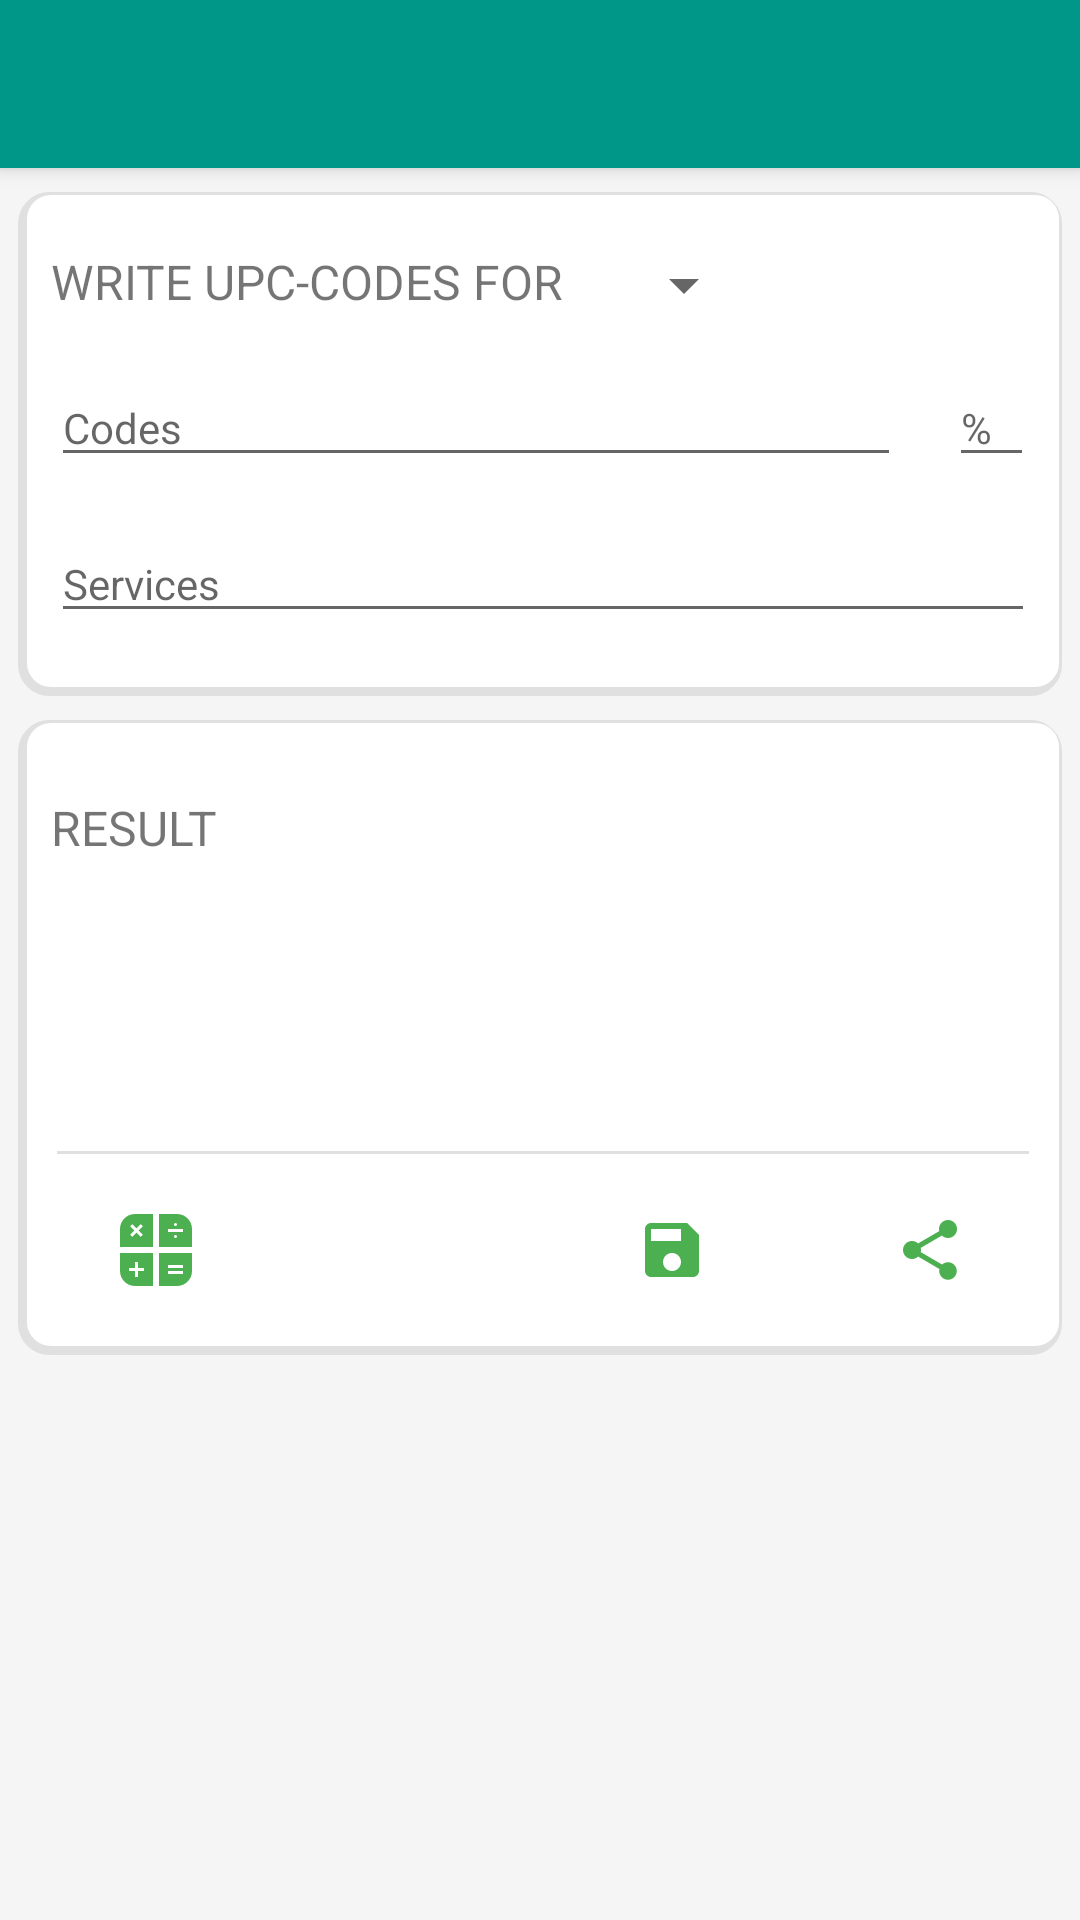

Screen size 1080px x 1920px. Icon name, then its box in pixels as detection(x1, y1, x2, y2):
iconmonstr calculator: detection(120, 1214, 192, 1286)
save: detection(645, 1223, 699, 1277)
share: detection(903, 1220, 957, 1280)
